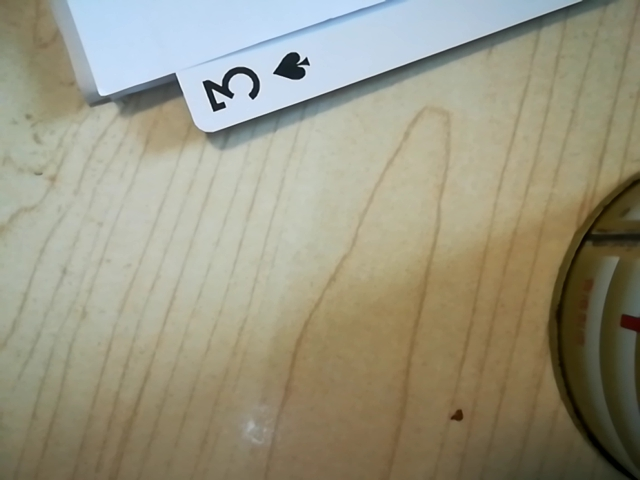ht 3: (189, 39, 321, 124)
